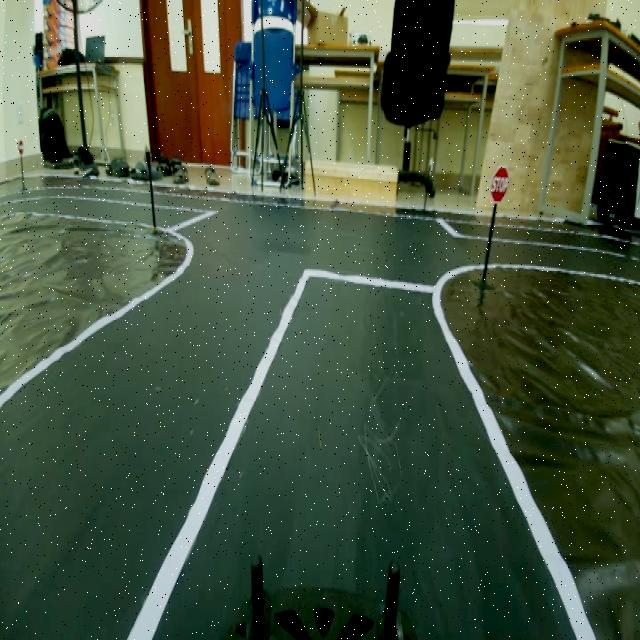stop: (488, 162, 514, 208)
